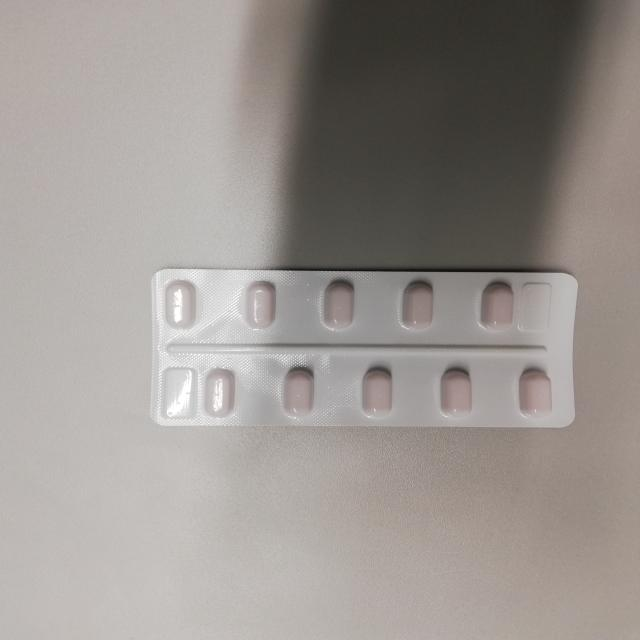Pill: (426, 361, 491, 421), (508, 364, 570, 422), (161, 272, 211, 343), (268, 362, 326, 423), (391, 275, 448, 336), (235, 276, 291, 338), (466, 272, 518, 332), (320, 274, 370, 336), (354, 361, 407, 418), (198, 364, 245, 422)
